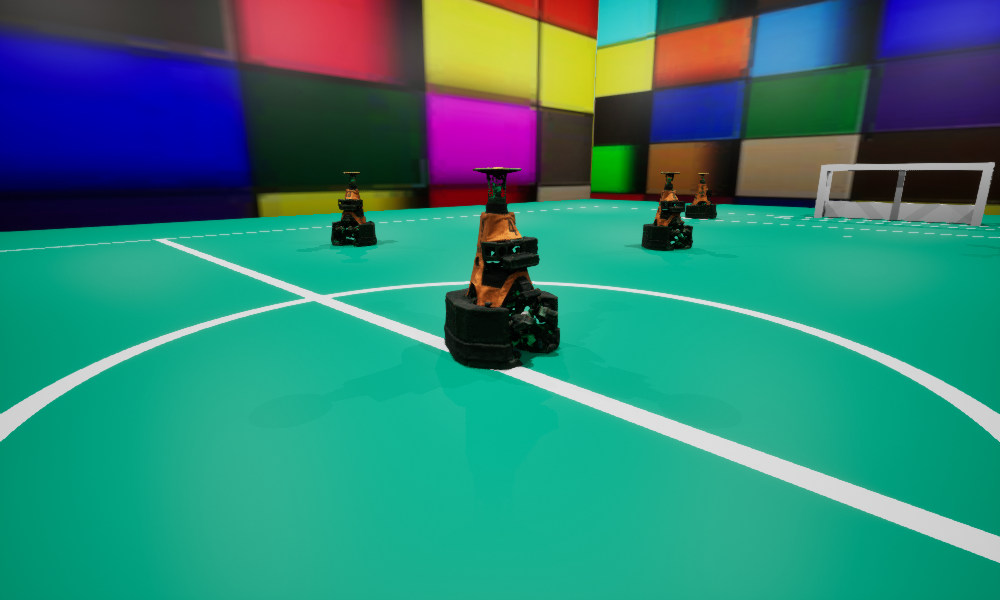o: (444, 167, 559, 369), (641, 172, 692, 250), (331, 172, 376, 245), (685, 173, 716, 218)
